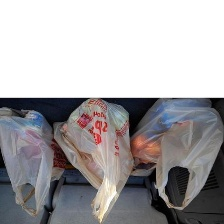plastic_bag: (126, 95, 224, 212), (48, 96, 135, 224), (0, 103, 69, 224)
